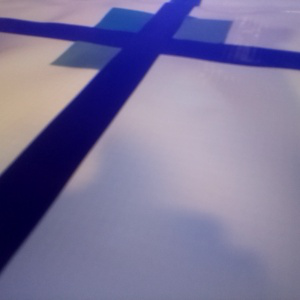bottom_left: (51, 32, 147, 69)
top_left: (93, 6, 172, 41)
top_right: (152, 15, 232, 53)
